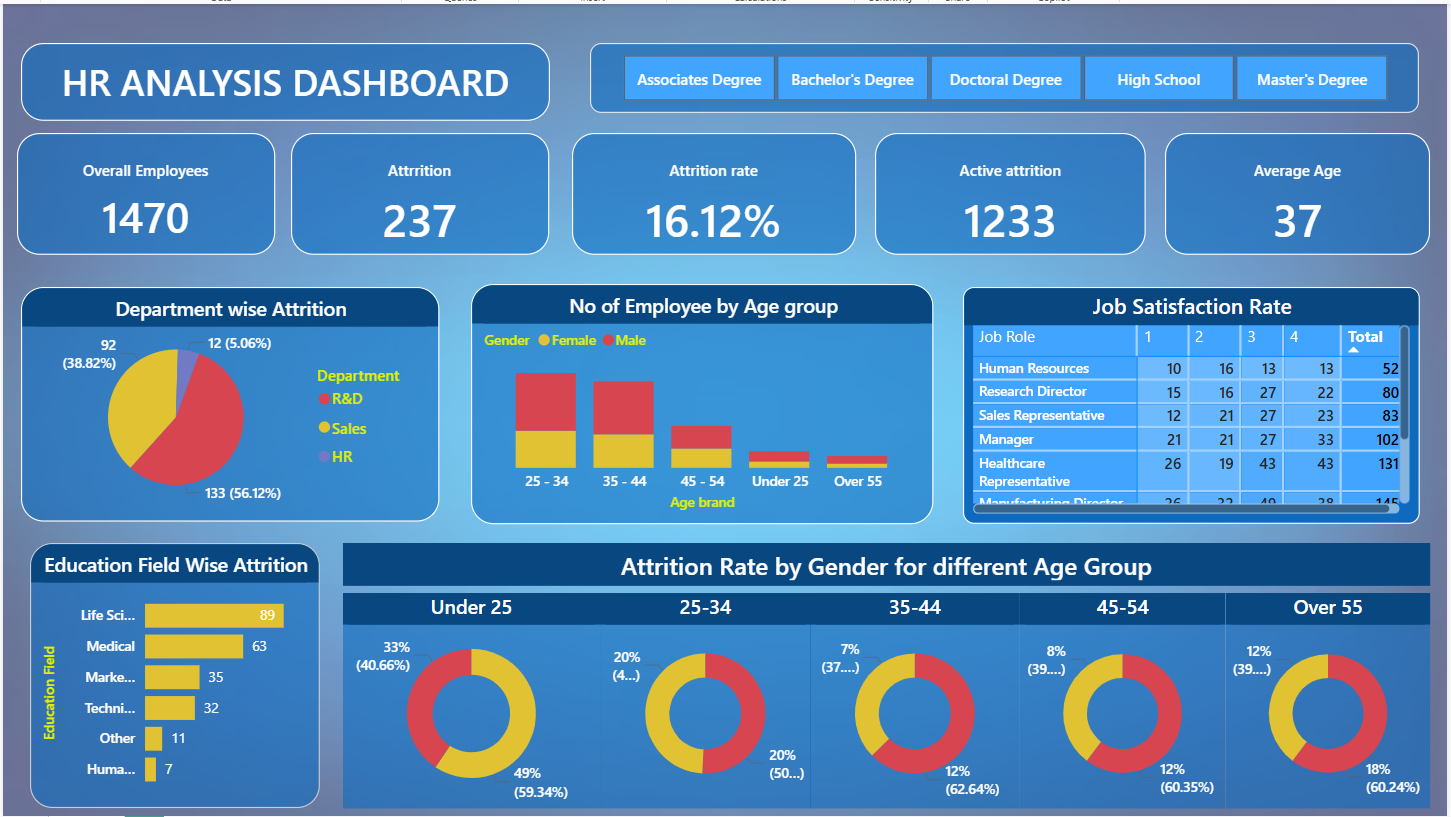

This screenshot's page, from the dashboard's own definition file:
{"tool":"powerbi","page":{"name":"Page 1","canvas":[1280,720],"ordinal":0},"visuals":[{"type":"cardVisual","fields":{"Data":["Sum(Table1.Employee Count)"]},"box":[12.6,114.8,228.6,108],"z":0},{"type":"cardVisual","fields":{"Data":["Table1.Attrition rate"]},"box":[504.8,114.8,251.9,108],"z":1000},{"type":"cardVisual","fields":{"Data":["Table1.Active attrition"]},"box":[773.3,114.8,240.2,108],"z":2000},{"type":"cardVisual","fields":{"Data":["Avg(Table1.Age)"]},"box":[1030,114.8,235.4,108],"z":3000},{"type":"cardVisual","fields":{"Data":["Sum(Table1.Attrition count)"]},"box":[255.8,114.8,228.6,108],"z":4000},{"type":"textbox","box":[15.6,35,468.8,69.1],"z":5000},{"type":"pieChart","title":"Department wise Attrition ","fields":{"Category":["Table1.Department"],"Y":["Sum(Table1.Attrition count)"]},"box":[15.6,250.9,370.6,208.1],"z":6000},{"type":"columnChart","title":"No of Employee by Age group","fields":{"Series":["Table1.Gender"],"Y":["Sum(Table1.Employee Count)"],"Category":["Table1.CF_age band"]},"box":[415.3,248,410.5,213],"z":7000},{"type":"barChart","title":"Education Field  Wise Attrition","fields":{"Category":["Table1.Education Field"],"Y":["Sum(Table1.Attrition count)"]},"box":[23.9,477.9,257.1,235],"z":8000},{"type":"donutChart","title":"Under 25","fields":{"Category":["Table1.Gender"],"Y":["Table1.Attrition rate"],"Series":["Table1.CF_age band"]},"box":[301.5,522.3,227.6,190.6],"z":9000},{"type":"donutChart","title":"25-34","fields":{"Category":["Table1.Gender"],"Y":["Table1.Attrition rate"],"Series":["Table1.CF_age band"]},"box":[529.1,522.3,186.7,190.6],"z":10000},{"type":"donutChart","title":"35-44","fields":{"Category":["Table1.Gender"],"Y":["Table1.Attrition rate"],"Series":["Table1.CF_age band"]},"box":[715.9,522.3,185.8,190.6],"z":11000},{"type":"donutChart","title":"45-54","fields":{"Category":["Table1.Gender"],"Y":["Table1.Attrition rate"],"Series":["Table1.CF_age band"]},"box":[901.6,522.3,181.9,190.6],"z":12000},{"type":"donutChart","title":"Over 55","fields":{"Category":["Table1.Gender"],"Y":["Table1.Attrition rate"],"Series":["Table1.CF_age band"]},"box":[1084.5,522.3,180.9,190.6],"z":13000},{"type":"textbox","box":[301.5,477.9,963.8,38.1],"z":14000},{"type":"slicer","fields":{"Values":["Table1.Education"]},"box":[520.4,35,735.3,62.2],"z":15000},{"type":"pivotTable","title":"Job Satisfaction Rate","fields":{"Rows":["Table1.Job Role"],"Columns":["Table1.Job Satisfaction"],"Values":["Sum(Table1.Employee Count)"]},"box":[851.1,250.9,404.6,210.1],"z":16000}]}

Visuals, with their boxes on the page's 1280x720 design canvas (x1, y1, x2, y2). These are canvas units, not pixel positions in the 1451x817 screenshot, which may show the page scaled, cropped or inside an application window:
cardVisual - Sum(Table1.Employee Count): x1=13, y1=115, x2=241, y2=223
cardVisual - Table1.Attrition rate: x1=505, y1=115, x2=757, y2=223
cardVisual - Table1.Active attrition: x1=773, y1=115, x2=1014, y2=223
cardVisual - Avg(Table1.Age): x1=1030, y1=115, x2=1265, y2=223
cardVisual - Sum(Table1.Attrition count): x1=256, y1=115, x2=484, y2=223
textbox: x1=16, y1=35, x2=484, y2=104
"Department wise Attrition " pieChart: x1=16, y1=251, x2=386, y2=459
"No of Employee by Age group" columnChart: x1=415, y1=248, x2=826, y2=461
"Education Field  Wise Attrition" barChart: x1=24, y1=478, x2=281, y2=713
"Under 25" donutChart: x1=302, y1=522, x2=529, y2=713
"25-34" donutChart: x1=529, y1=522, x2=716, y2=713
"35-44" donutChart: x1=716, y1=522, x2=902, y2=713
"45-54" donutChart: x1=902, y1=522, x2=1084, y2=713
"Over 55" donutChart: x1=1084, y1=522, x2=1265, y2=713
textbox: x1=302, y1=478, x2=1265, y2=516
slicer - Table1.Education: x1=520, y1=35, x2=1256, y2=97
"Job Satisfaction Rate" pivotTable: x1=851, y1=251, x2=1256, y2=461
